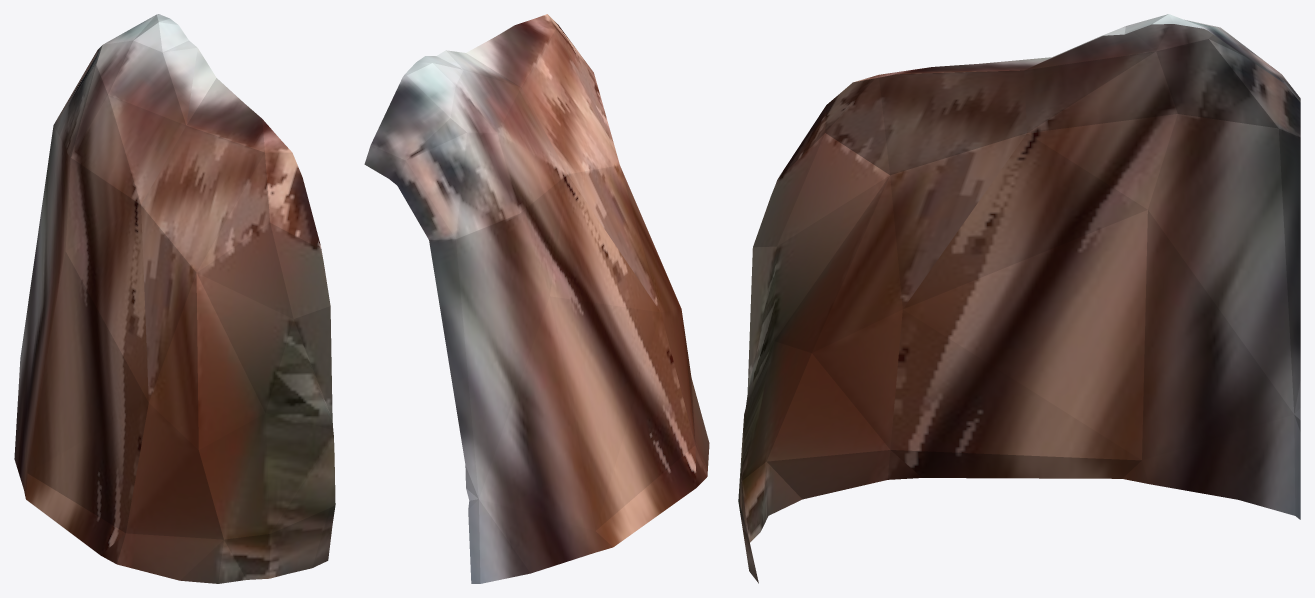
3 views of the same model, side by side, from view 1: azimuth 30°, elevation 25°; view 2: azimuth 150°, elevation 25°; view 3: azimuth 270°, elevation 25° (orthographic). The views are drawn at different scales.
Bounding box in the file's own units: 0.2136 × 0.5274 × 0.4788.
Materials: 1 (1 with a texture image).
